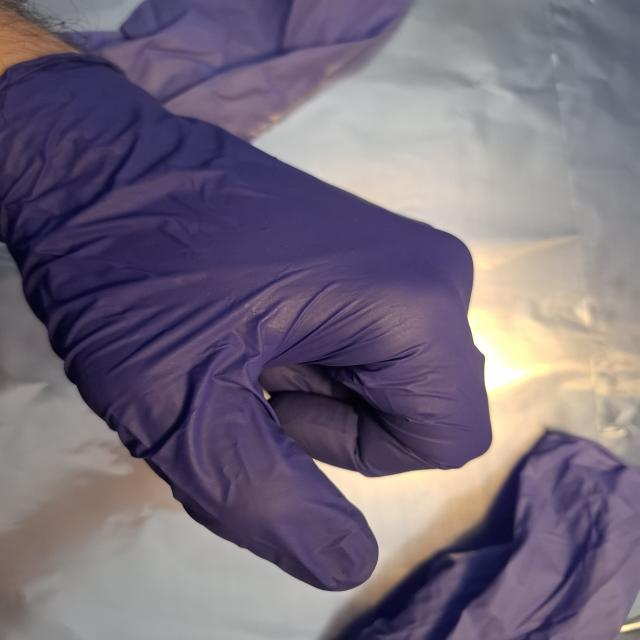glove_on: (0, 48, 497, 594)
